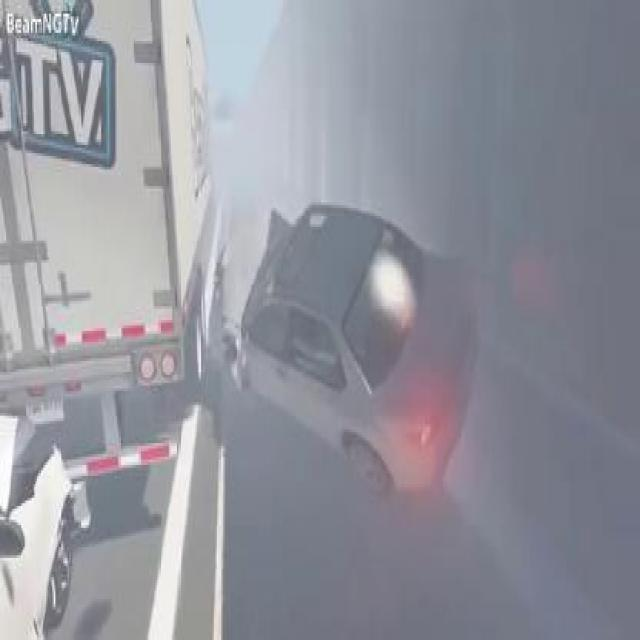accident: (0, 0, 494, 528), (0, 0, 220, 637)
